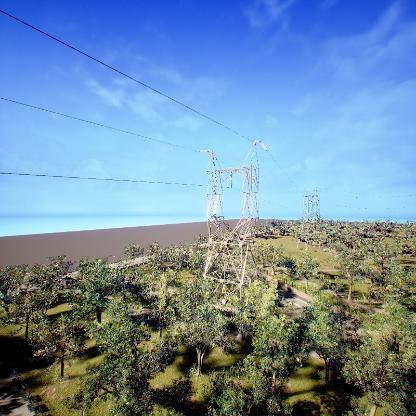tower: (196, 134, 274, 316)
